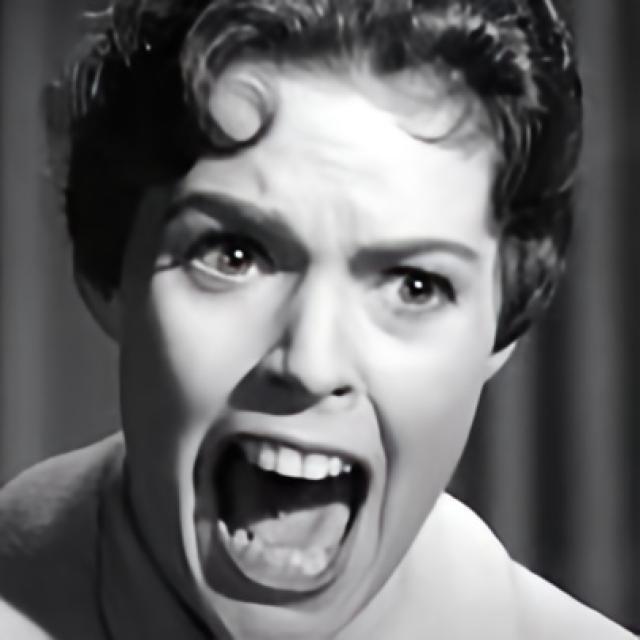fear: (118, 48, 508, 640)
